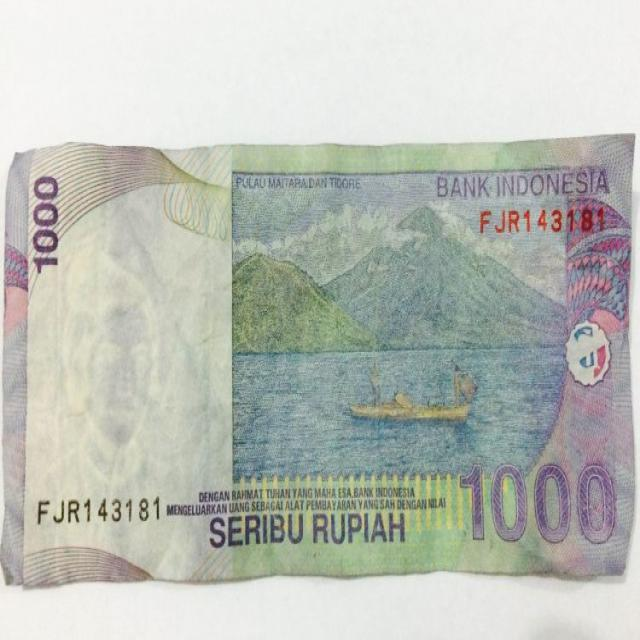seribu rupiah: (5, 134, 635, 579)
